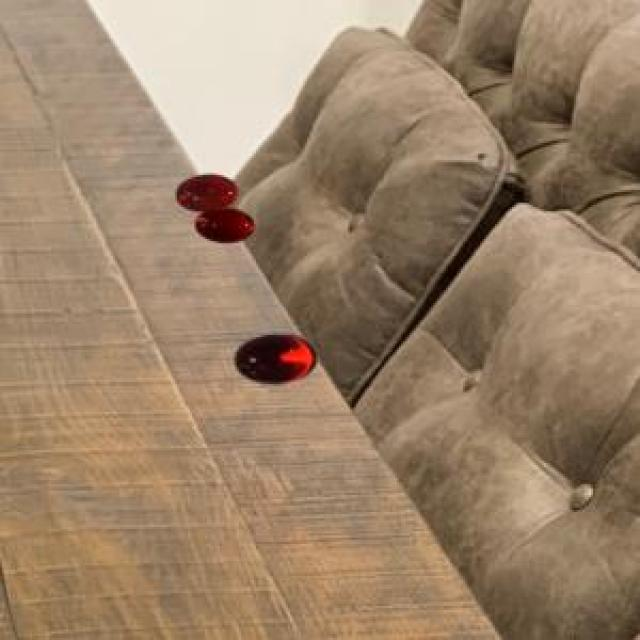Medicol: (164, 163, 263, 260), (231, 325, 320, 395)
